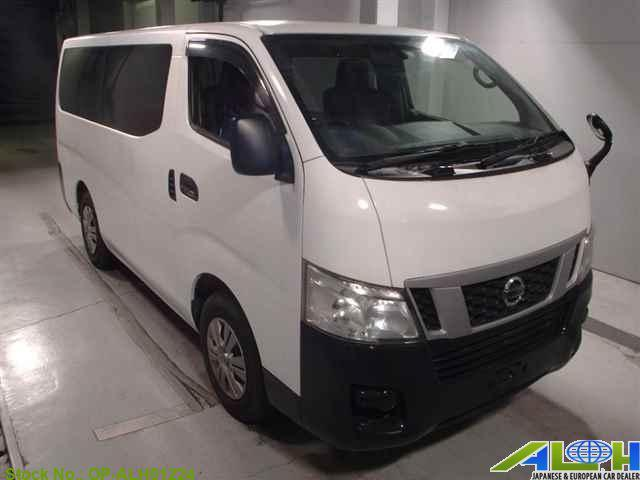van: (54, 24, 603, 435)
